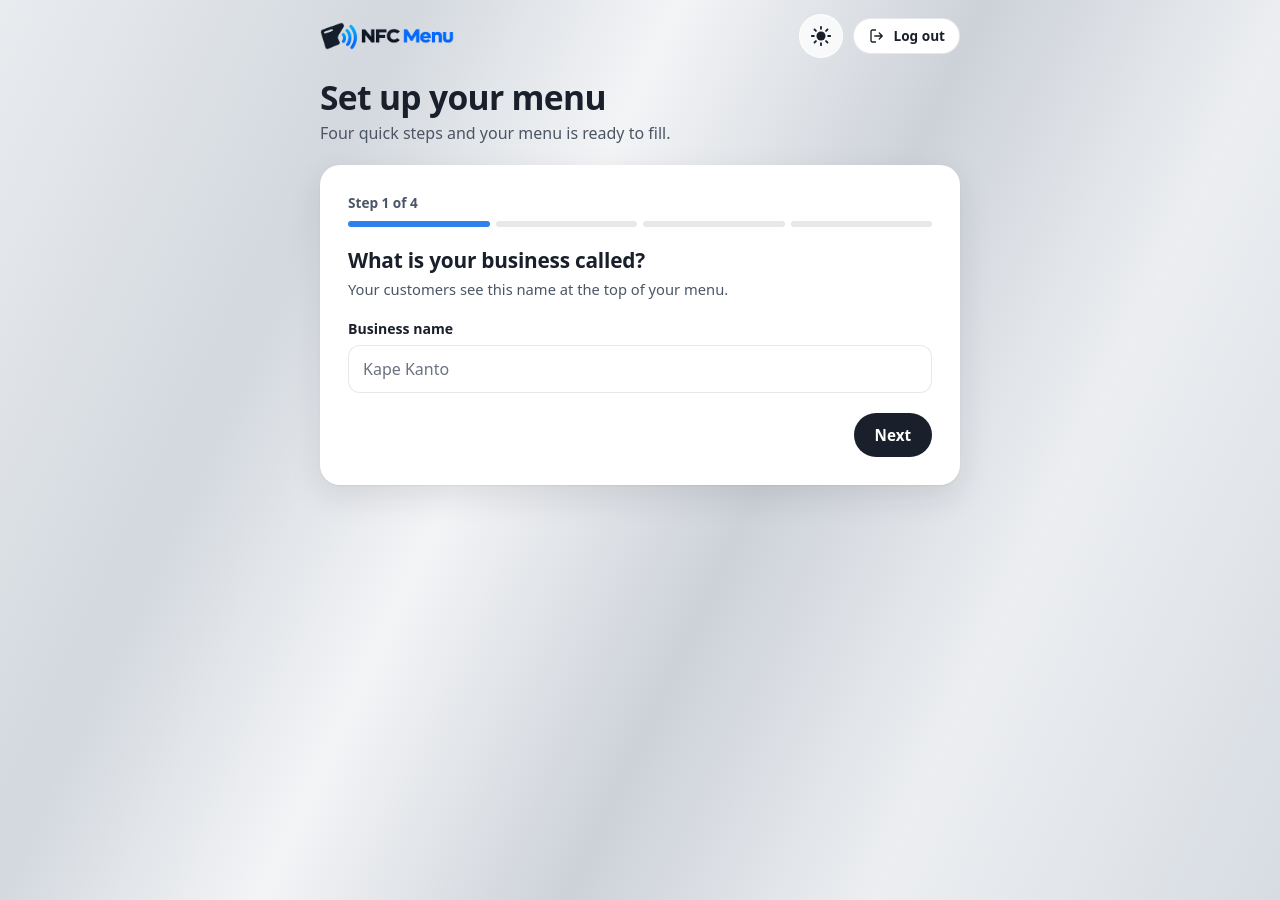
the steps of the setup wizard › business name › asks for a name and stays on the step when it is empty
Click the button "Next". click: [893, 435]
box: [854, 413, 932, 457]
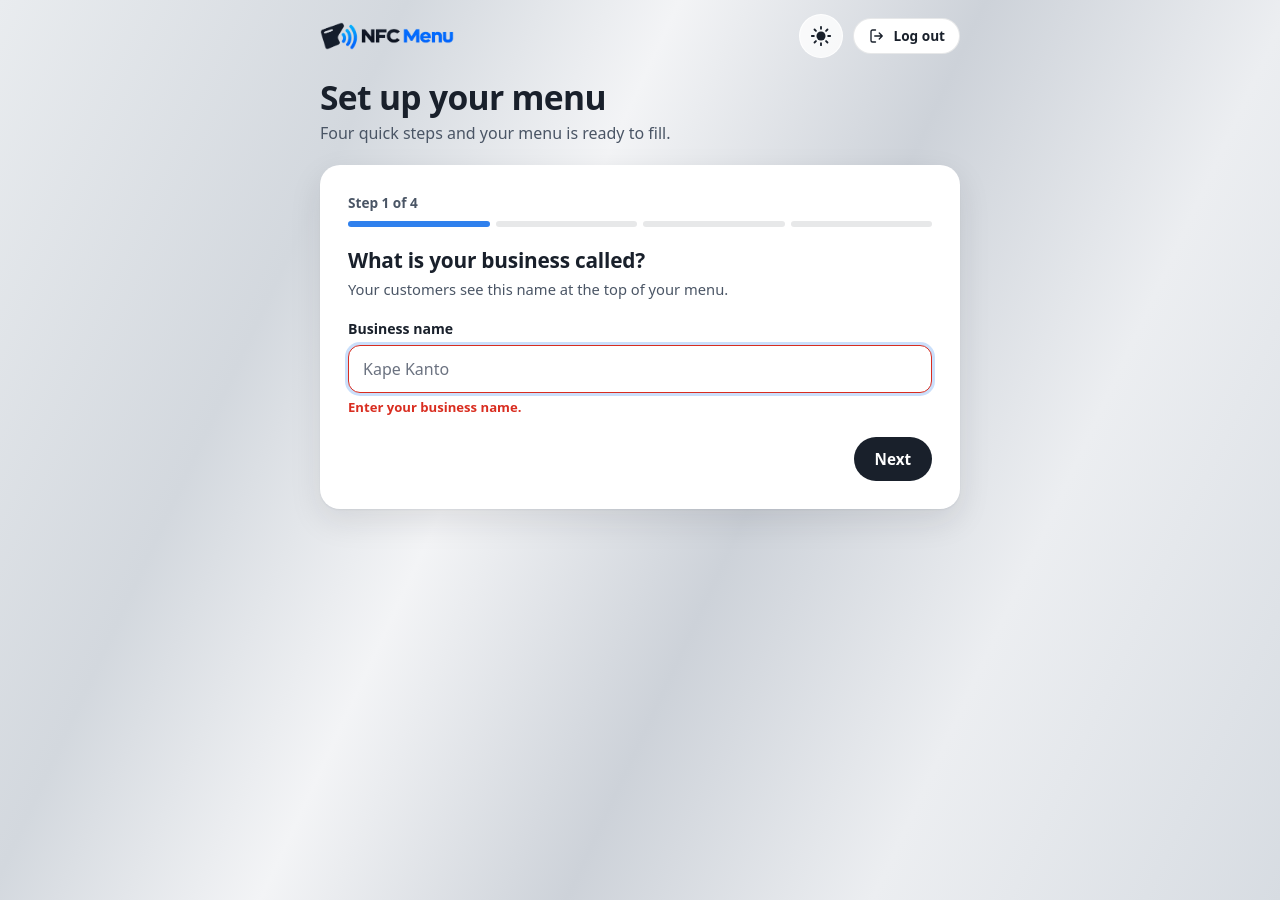
Check: the heading "What is your business called?" is shown, box [348, 246, 645, 274]
Check: the text "Enter your business name." is shown, box [348, 398, 521, 416]
